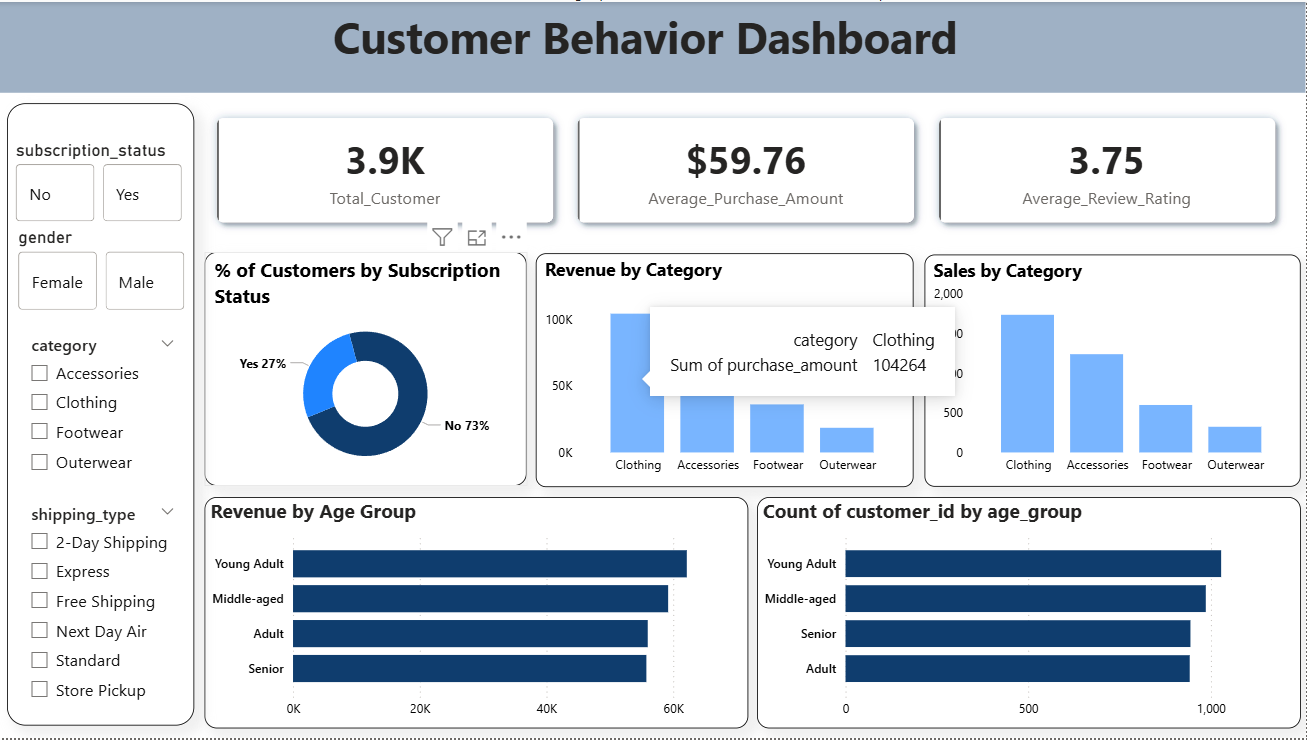

This screenshot's page, from the dashboard's own definition file:
{"tool":"powerbi","page":{"name":"Page 1","canvas":[1280,720],"ordinal":0},"visuals":[{"type":"cardVisual","fields":{"Data":["Public_customer.Total_Customer","Public_customer.Average_Purchase_Amount","Public_customer.Average_Review_Rating"]},"box":[187.1,85.6,1093.2,159],"z":0},{"type":"textbox","box":[0,0,1280,88.6],"z":1000},{"type":"donutChart","title":"% of Customers by Subscription Status","fields":{"Category":["Public_customer.subscription_status"],"Y":["CountNonNull(Public_customer.customer_id)"]},"box":[203,244.6,315.5,228.7],"z":2000},{"type":"clusteredColumnChart","title":"Revenue by Category","fields":{"Category":["Public_customer.category"],"Y":["Sum(Public_customer.purchase_amount)"]},"box":[527,245.8,369.3,228.7],"z":3000},{"type":"clusteredColumnChart","title":"Sales by Category","fields":{"Category":["Public_customer.category"],"Y":["CountNonNull(Public_customer.customer_id)"]},"box":[907.3,247,368,227.4],"z":4000},{"type":"clusteredBarChart","title":" Revenue by Age Group","fields":{"Category":["Public_customer.age_group"],"Y":["Sum(Public_customer.purchase_amount)"]},"box":[203,484.2,531.9,226.2],"z":5000},{"type":"clusteredBarChart","fields":{"Category":["Public_customer.age_group"],"Y":["CountNonNull(Public_customer.customer_id)"]},"box":[743.5,484.2,531.9,226.2],"z":6000},{"type":"textbox","box":[9.8,99,183.4,609],"z":6001},{"type":"advancedSlicerVisual","fields":{"Values":["Public_customer.subscription_status"]},"box":[13.5,134.5,173.6,85.6],"z":6003},{"type":"advancedSlicerVisual","fields":{"Values":["Public_customer.gender"]},"box":[15.9,220.1,173.6,86.8],"z":6004},{"type":"slicer","fields":{"Values":["Public_customer.category"]},"box":[20.8,319.2,165.1,154.1],"z":6005},{"type":"slicer","fields":{"Values":["Public_customer.shipping_type"]},"box":[20.8,484.2,165.1,209.1],"z":6006}]}

Visuals, with their boxes in screenshot pixels (x1, y1, x2, y2), scaled from the page's 1280x720 canvas onto the 1307x740 screenshot:
cardVisual - Public_customer.Total_Customer x Public_customer.Average_Purchase_Amount: l=191, t=88, r=1306, b=251
textbox: l=0, t=0, r=1306, b=91
"% of Customers by Subscription Status" donutChart: l=207, t=251, r=529, b=486
"Revenue by Category" clusteredColumnChart: l=538, t=253, r=915, b=488
"Sales by Category" clusteredColumnChart: l=926, t=254, r=1302, b=488
" Revenue by Age Group" clusteredBarChart: l=207, t=498, r=750, b=730
clusteredBarChart - Public_customer.age_group x CountNonNull(Public_customer.customer_id): l=759, t=498, r=1302, b=730
textbox: l=10, t=102, r=197, b=728
advancedSlicerVisual - Public_customer.subscription_status: l=14, t=138, r=191, b=226
advancedSlicerVisual - Public_customer.gender: l=16, t=226, r=193, b=315
slicer - Public_customer.category: l=21, t=328, r=190, b=486
slicer - Public_customer.shipping_type: l=21, t=498, r=190, b=713
